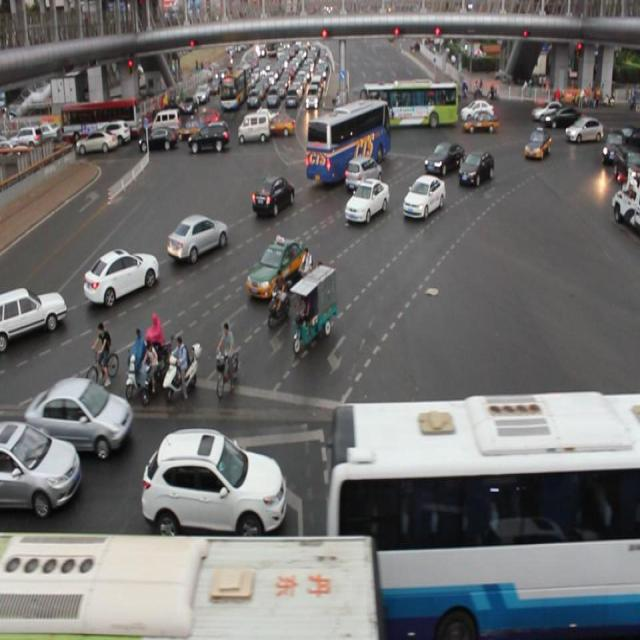car: (142, 424, 287, 536), (415, 423, 535, 538), (28, 378, 134, 463), (1, 415, 82, 518), (85, 243, 161, 309), (1, 283, 67, 353), (248, 237, 308, 298), (167, 211, 230, 264), (344, 178, 390, 225), (400, 171, 444, 219), (251, 174, 296, 218), (424, 140, 463, 173), (460, 150, 496, 183), (346, 157, 383, 186), (565, 114, 600, 143), (522, 127, 550, 161)
van: (330, 385, 640, 640), (0, 522, 384, 640), (308, 100, 391, 178)
